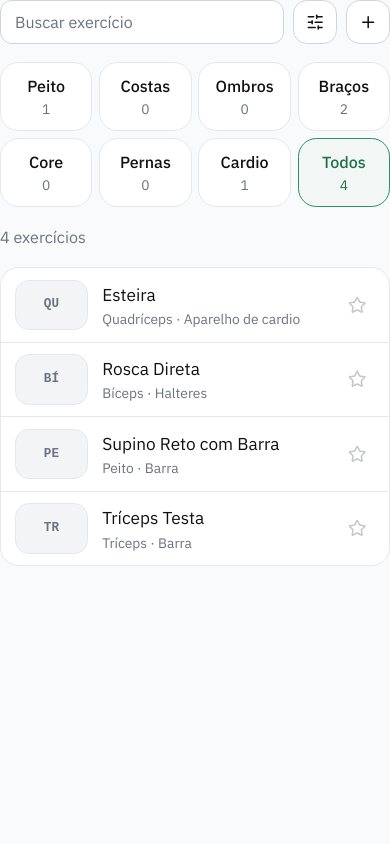
Test case: refinamentos da tela Exercícios › o filtro de músculo abre por região; Peito escolhe direto
Click the button named "Filtros": (315, 22) x1=293 y1=0 x2=337 y2=44
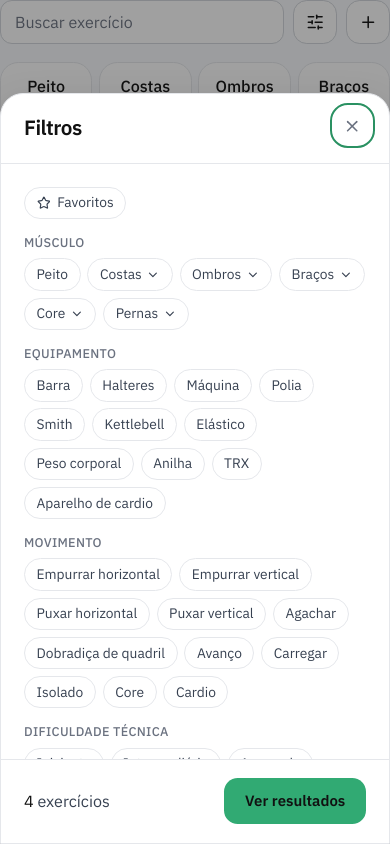
Check: the button "Deltoide lateral" is not shown
Click the button "Ombros": (226, 275) x1=180 y1=258 x2=272 y2=291
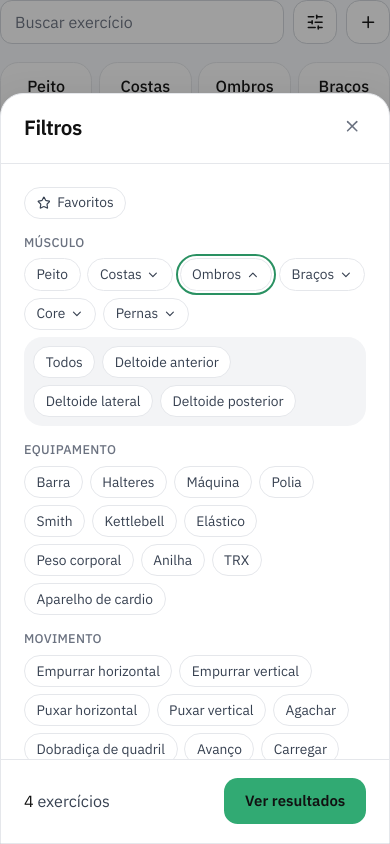
Click the button "Todos": (64, 362) x1=33 y1=346 x2=95 y2=378
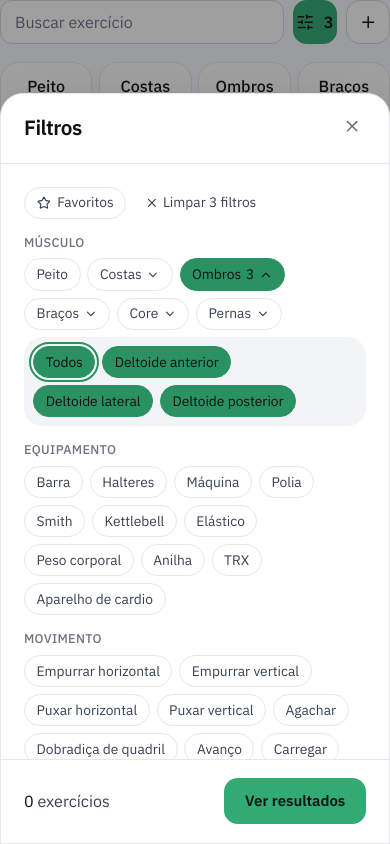
Check: the button "Ombros 3" is shown, box x1=180 y1=258 x2=285 y2=291
